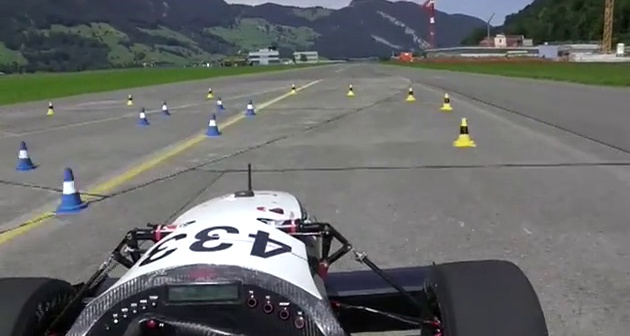Cone: (53, 165, 91, 215), (14, 139, 40, 172), (451, 116, 477, 148), (204, 112, 222, 138), (439, 91, 455, 111), (136, 107, 151, 126), (244, 98, 258, 117), (159, 101, 172, 117), (405, 86, 417, 101), (214, 96, 226, 110)
